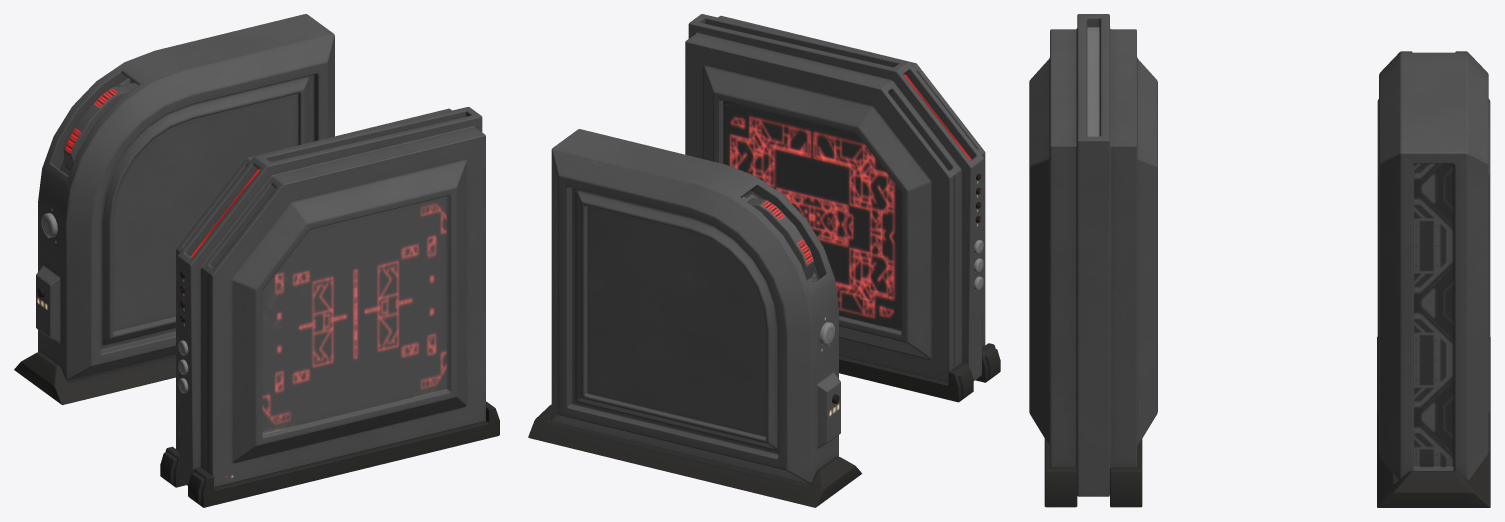
3 views of the same model, side by side, from view 1: azimuth 30°, elevation 25°; view 2: azimuth 150°, elevation 25°; view 3: azimuth 270°, elevation 25° (orthographic). The views are drawn at different scales.
Parts seen in each view (by area): view 1: Server_1, Server_2; view 2: Server_2, Server_1; view 3: Server_1, Server_2.
Boxes of the visible parts, <box> form: Server_1: <box>160,107,499,507</box>; Server_2: <box>14,14,334,405</box>; Server_2: <box>528,129,861,507</box>; Server_1: <box>685,14,1000,402</box>; Server_1: <box>1029,14,1157,507</box>; Server_2: <box>1377,51,1490,507</box>.
Size of the model in its own units: 0.7427 by 0.7389 by 0.8377.
1 material, 1 textured.
